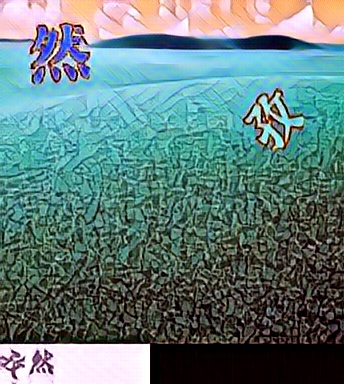C8BB: (28, 19, 91, 85)
D7CE: (243, 86, 306, 152)
